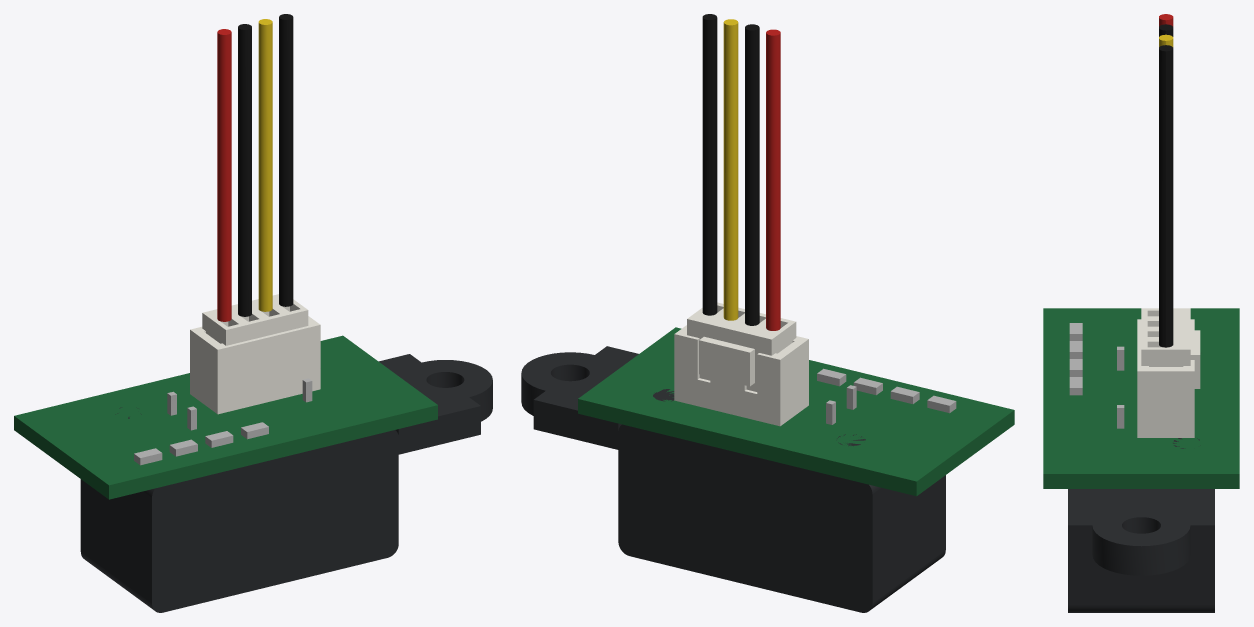
Rendered from cliff-sensor.glb.
The picture shows the model from 3 angles, left to right: view 1: azimuth 30°, elevation 25°; view 2: azimuth 150°, elevation 25°; view 3: azimuth 270°, elevation 25°; orthographic projection. The views are drawn at different scales.
Parts seen in each view (by area): view 1: housing, pcb, conn_header, wire_1, wire_3, wire_4, wire_2, plug_housing, smd, leads; view 2: housing, pcb, conn_header, plug_housing, wire_4, wire_3, wire_1, wire_2, smd; view 3: pcb, housing, wire_4, conn_header, plug_housing, smd, leads.
Boxes of the visible parts, <box> form: housing: <box>80,354,492,612</box>; pcb: <box>14,335,437,499</box>; conn_header: <box>190,316,320,414</box>; wire_1: <box>217,29,231,321</box>; wire_3: <box>258,19,272,311</box>; wire_4: <box>279,14,293,306</box>; wire_2: <box>238,24,251,316</box>; plug_housing: <box>202,294,308,345</box>; smd: <box>134,422,268,465</box>; leads: <box>167,378,312,430</box>; housing: <box>521,346,945,612</box>; pcb: <box>578,327,1014,496</box>; conn_header: <box>674,325,808,426</box>; plug_housing: <box>687,302,796,391</box>; wire_4: <box>702,14,717,315</box>; wire_3: <box>723,19,738,320</box>; wire_1: <box>766,29,780,330</box>; wire_2: <box>745,24,759,325</box>; smd: <box>817,368,956,413</box>; pcb: <box>1043,308,1239,488</box>; housing: <box>1068,438,1214,612</box>; wire_4: <box>1159,45,1173,347</box>; conn_header: <box>1137,319,1194,437</box>; plug_housing: <box>1141,308,1200,388</box>; smd: <box>1069,323,1082,395</box>; leads: <box>1117,346,1124,428</box>.
Size of the model in its own units: 0.031 by 0.0362 by 0.012.
